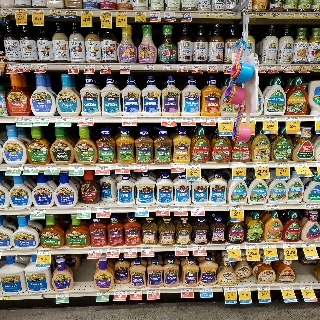All PRICE TAGS: (17, 116, 32, 122), (284, 116, 300, 121), (69, 165, 84, 170), (25, 165, 40, 170), (218, 117, 233, 122), (200, 117, 215, 122), (181, 117, 196, 122), (161, 117, 176, 122), (122, 117, 137, 122), (79, 117, 94, 122), (35, 117, 50, 122), (17, 117, 32, 122), (304, 204, 319, 209), (229, 205, 244, 210), (49, 9, 61, 15), (77, 208, 91, 213), (46, 165, 60, 170), (57, 117, 71, 122), (237, 286, 251, 291), (227, 244, 241, 249), (232, 163, 246, 168), (226, 12, 237, 18), (114, 290, 127, 295), (88, 248, 101, 253), (156, 206, 169, 211), (32, 209, 45, 214), (263, 243, 276, 248), (200, 287, 212, 292), (124, 247, 136, 252), (7, 166, 22, 170), (265, 205, 280, 209), (274, 163, 289, 167), (253, 163, 268, 167), (262, 117, 277, 121), (65, 10, 77, 15), (15, 9, 27, 14), (0, 9, 12, 14), (106, 248, 120, 252), (37, 250, 51, 254), (97, 208, 111, 212), (186, 164, 200, 168), (170, 164, 184, 168), (134, 165, 148, 169), (116, 165, 130, 169), (96, 165, 110, 169), (282, 243, 296, 247), (245, 244, 259, 248), (293, 162, 307, 166), (0, 295, 11, 300), (266, 65, 277, 70), (284, 13, 295, 18), (270, 13, 281, 18), (149, 12, 160, 17), (135, 11, 146, 16), (97, 291, 110, 295), (193, 246, 206, 250), (141, 247, 154, 251), (191, 206, 204, 210), (174, 206, 187, 210), (135, 207, 148, 211), (224, 287, 237, 291), (257, 286, 270, 290), (280, 285, 293, 289), (302, 243, 315, 247), (299, 13, 309, 18), (310, 65, 320, 70), (256, 13, 266, 18), (101, 11, 111, 16), (165, 12, 175, 17), (181, 12, 191, 17), (101, 64, 111, 69), (181, 288, 193, 292), (130, 290, 142, 294), (57, 293, 69, 297), (176, 246, 188, 250), (300, 285, 312, 289), (32, 10, 44, 14), (148, 289, 159, 293), (81, 11, 92, 15), (116, 12, 127, 16), (199, 13, 210, 17), (9, 64, 20, 68), (36, 64, 47, 68), (222, 65, 232, 69), (312, 13, 320, 18), (296, 66, 306, 70), (281, 65, 291, 69), (213, 13, 223, 17), (69, 65, 79, 69), (85, 64, 95, 68), (120, 65, 130, 69), (144, 65, 154, 69), (177, 65, 187, 69), (192, 65, 202, 69), (206, 65, 216, 69), (22, 64, 31, 68), (163, 65, 172, 69), (313, 116, 320, 121), (249, 13, 254, 17), (258, 66, 263, 69)
